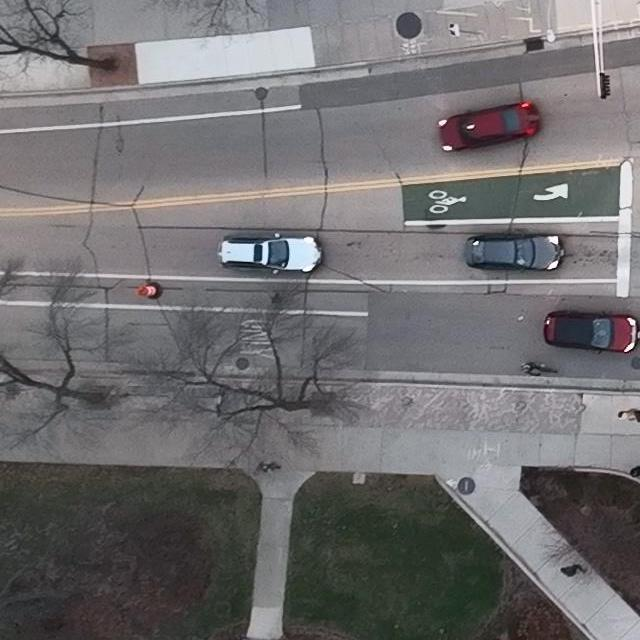car: (437, 99, 543, 153), (544, 309, 640, 357), (217, 233, 323, 275), (464, 232, 565, 273)
